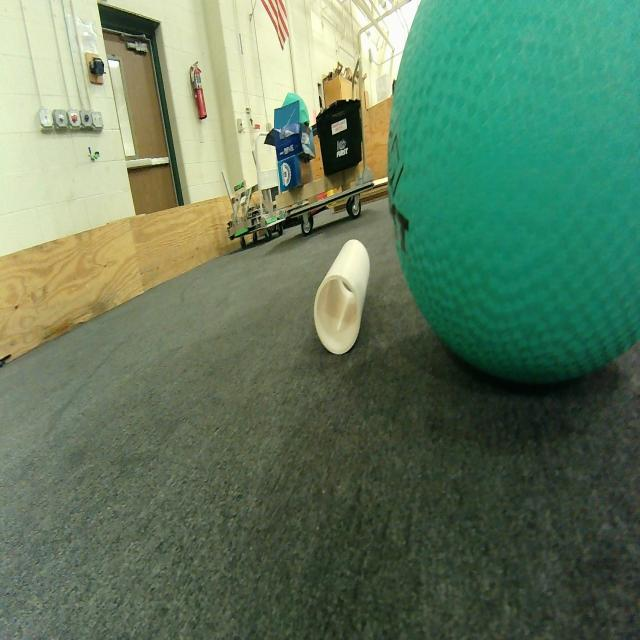algae: (387, 0, 639, 389)
coral: (306, 226, 378, 364)
